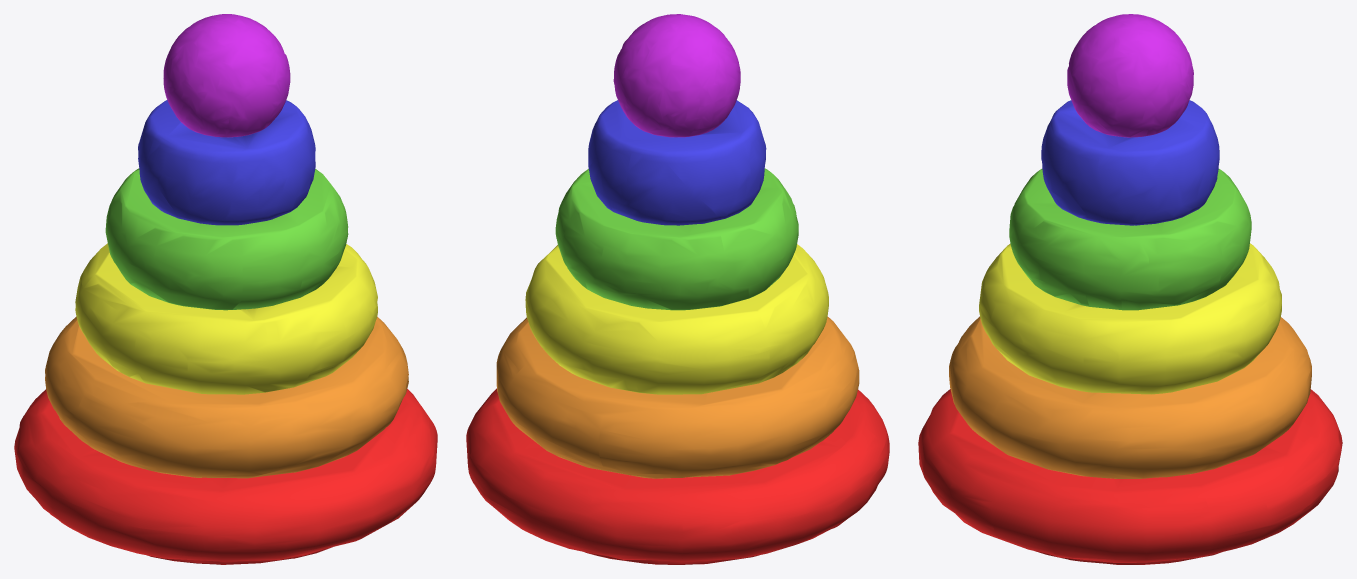
The model's file is piramidka.fbx.
The picture shows the model from 3 angles, left to right: view 1: azimuth 30°, elevation 25°; view 2: azimuth 150°, elevation 25°; view 3: azimuth 270°, elevation 25°; orthographic projection.
Visible parts, largest first — view 1: toy-hren; view 2: toy-hren; view 3: toy-hren.
Part boxes in pixels (bbox=[...]): toy-hren: bbox=[14, 14, 437, 564]; toy-hren: bbox=[466, 14, 889, 564]; toy-hren: bbox=[918, 14, 1342, 564].
Bounding box in the file's own units: 24.49 × 30.53 × 24.51.
